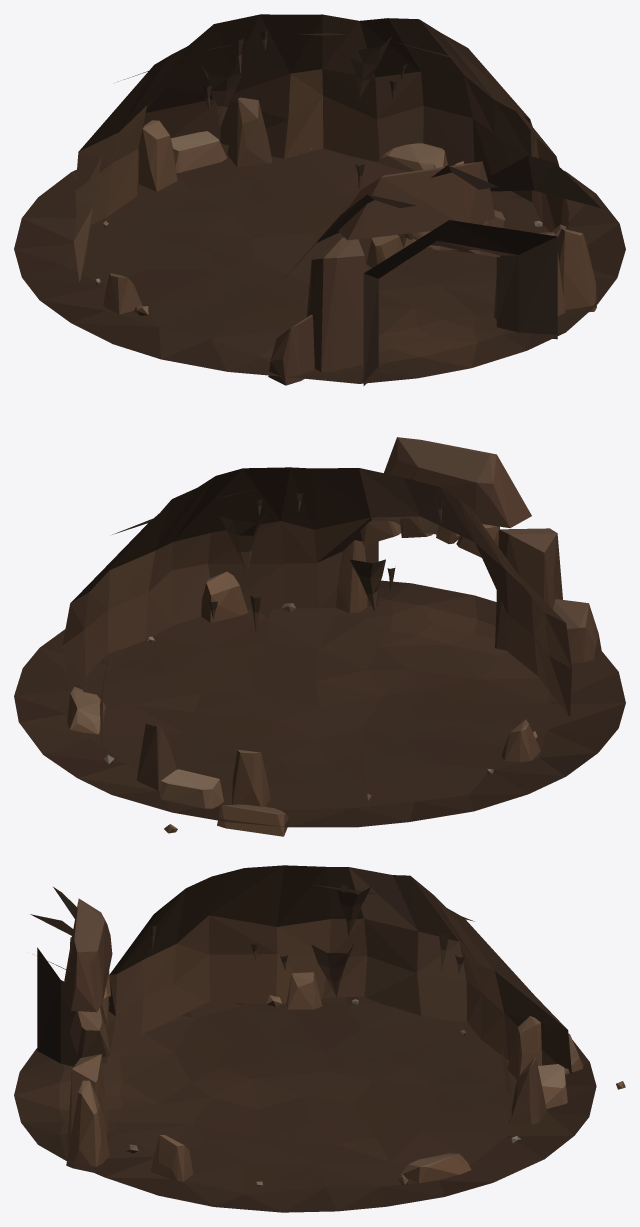
File: tl_cave_side_a_v01.glb
3 renders of one model, top to bottom at view 1: azimuth 30°, elevation 25°; view 2: azimuth 150°, elevation 25°; view 3: azimuth 270°, elevation 25°, orthographic. The views are drawn at different scales.
Parts seen in each view (by area): view 1: tl_cave_side_a_v01, tl_cave_side_a_ceiling; view 2: tl_cave_side_a_v01, tl_cave_side_a_ceiling; view 3: tl_cave_side_a_v01, tl_cave_side_a_ceiling.
Boxes of the visible parts, x1,y1,x2,y2 form: tl_cave_side_a_v01: (14, 14, 625, 385); tl_cave_side_a_ceiling: (118, 31, 601, 289); tl_cave_side_a_v01: (14, 437, 625, 836); tl_cave_side_a_ceiling: (112, 488, 444, 633); tl_cave_side_a_v01: (14, 865, 625, 1212); tl_cave_side_a_ceiling: (30, 883, 474, 996).
Size of the model in its own units: 22.31 by 7.89 by 23.53.
